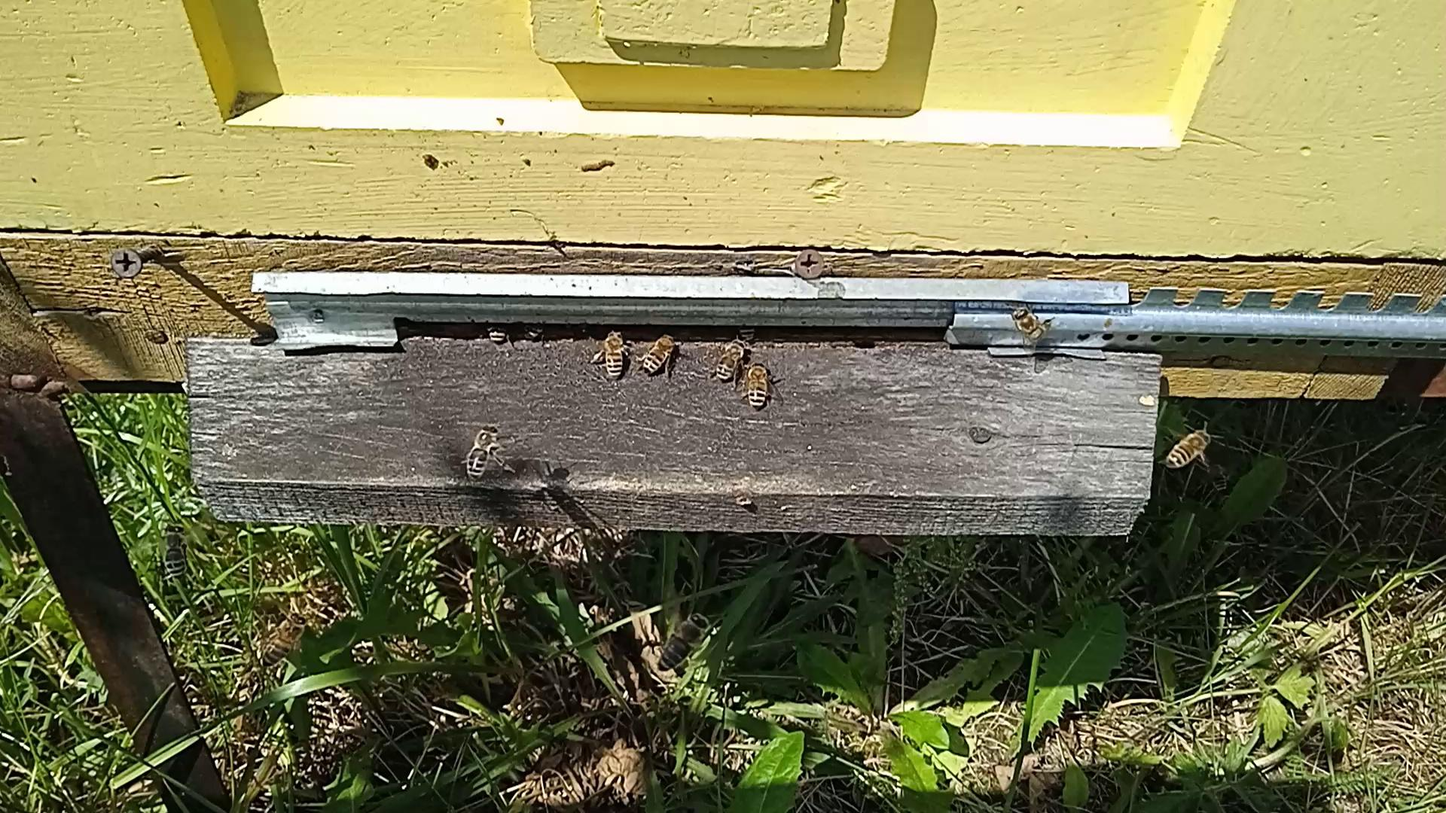worker-bee: (657, 612, 709, 670), (260, 613, 307, 665), (464, 424, 502, 480), (593, 327, 629, 382), (1164, 429, 1213, 469), (642, 331, 681, 375), (741, 359, 773, 411), (161, 522, 188, 582), (1010, 305, 1052, 342), (714, 338, 749, 382), (482, 321, 510, 345), (521, 322, 548, 342)
